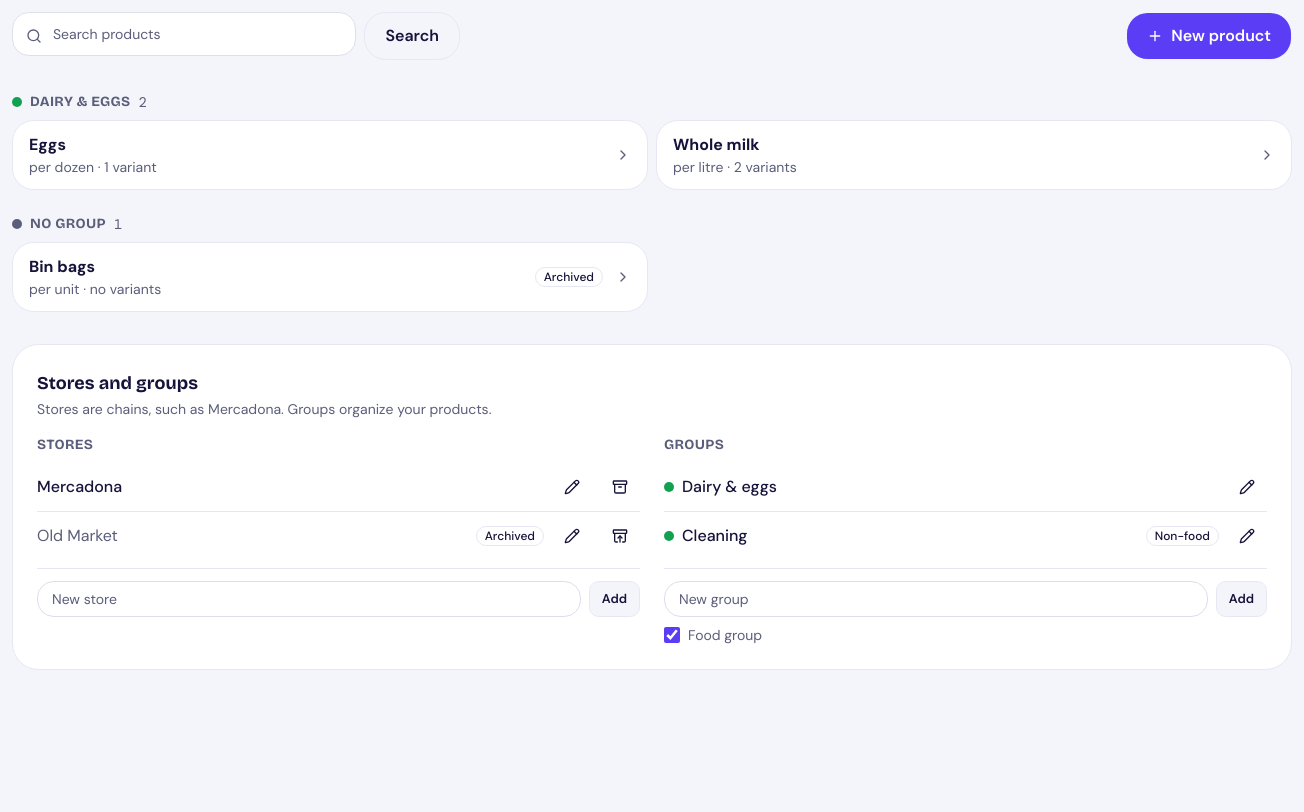
Test case: CatalogAdmin › adds a store and shows a duplicate error
The image size is (1304, 812).
In the field labelled "New store": (309, 599) [37,581,581,617], type "Mercadona"
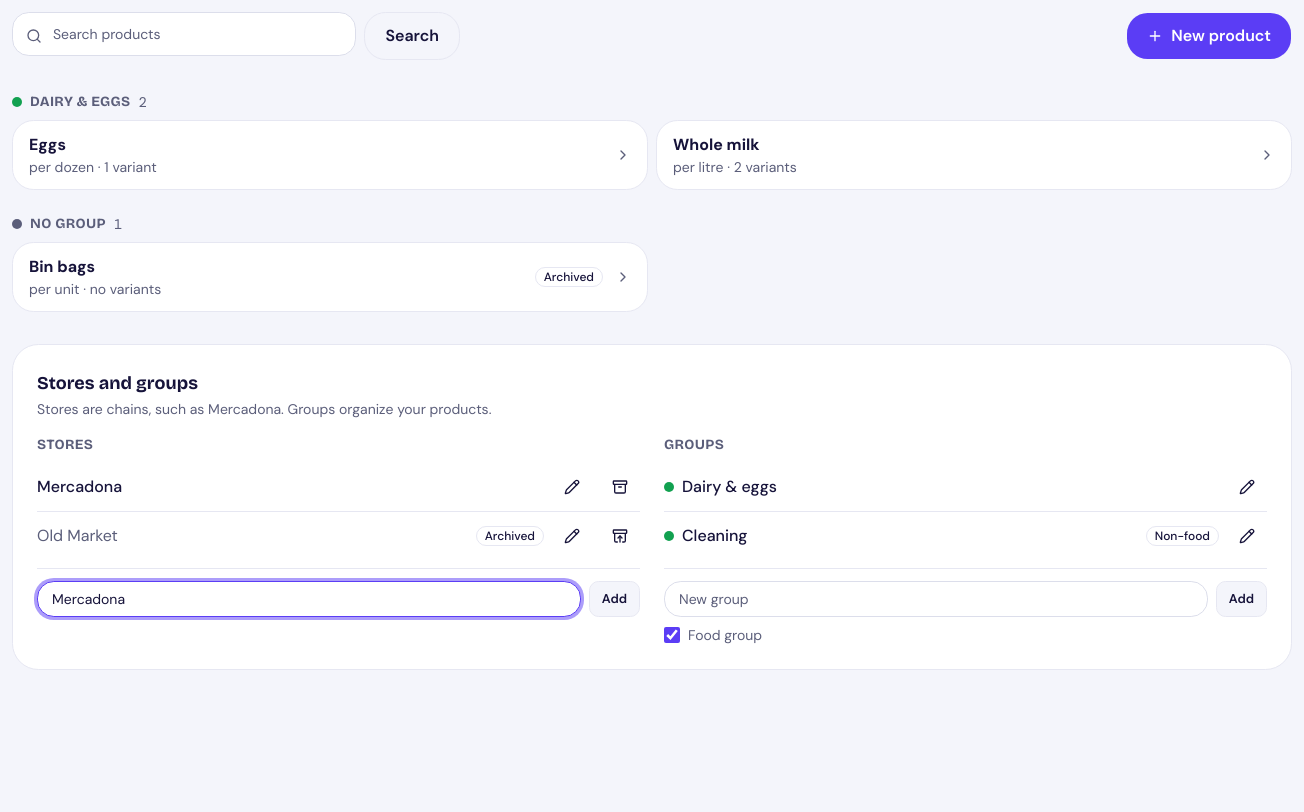
Click the 1st button "Add": (614, 599) [589,581,640,617]
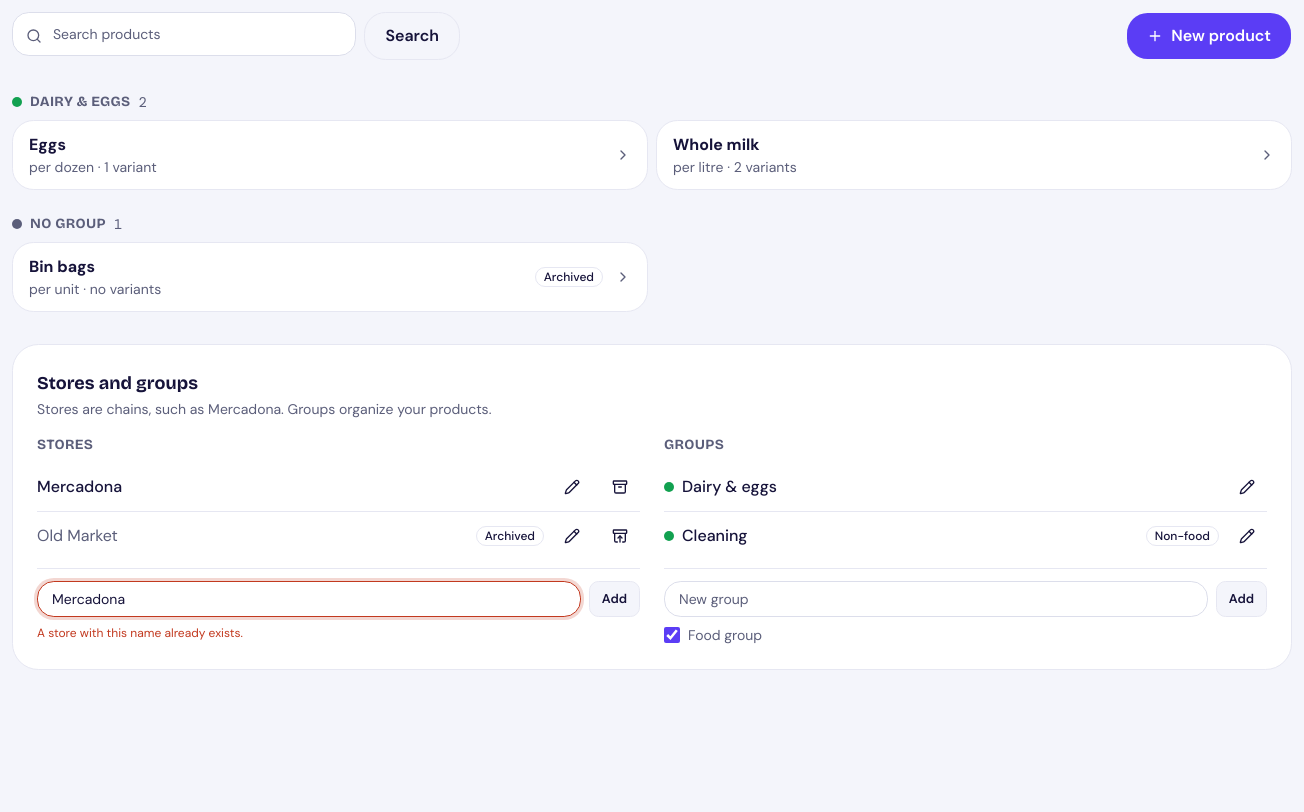
Result: the message reads "A store with this name already exists." at [37,625,243,641]
